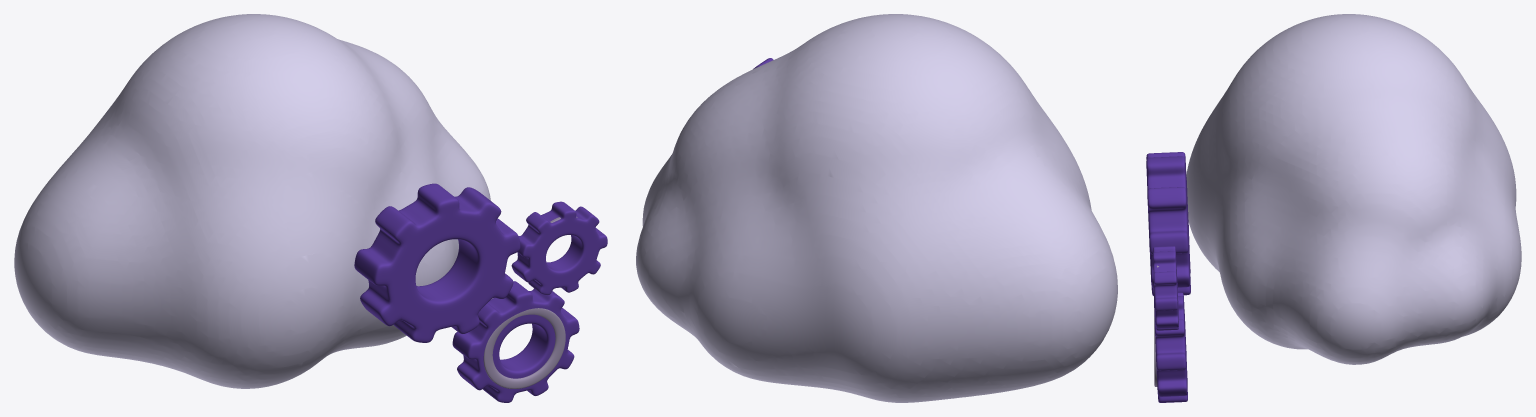
Rendered from Cloud Managemnt.glb.
The picture shows the model from 3 angles, left to right: view 1: azimuth 30°, elevation 25°; view 2: azimuth 150°, elevation 25°; view 3: azimuth 270°, elevation 25°; orthographic projection. The views are drawn at different scales.
Parts seen in each view (by area): view 1: Mball.002, Gear.002, Gear.003; view 2: Mball.002; view 3: Mball.002, Gear.002.
Boxes of the visible parts, x1=… form: Mball.002: x1=14, y1=14, x2=490, y2=388; Gear.002: x1=354, y1=183, x2=607, y2=402; Gear.003: x1=483, y1=308, x2=565, y2=388; Mball.002: x1=636, y1=14, x2=1117, y2=402; Mball.002: x1=1186, y1=14, x2=1521, y2=364; Gear.002: x1=1146, y1=152, x2=1190, y2=402.
Bounding box in the file's own units: 6.82 × 4.72 × 5.39.
